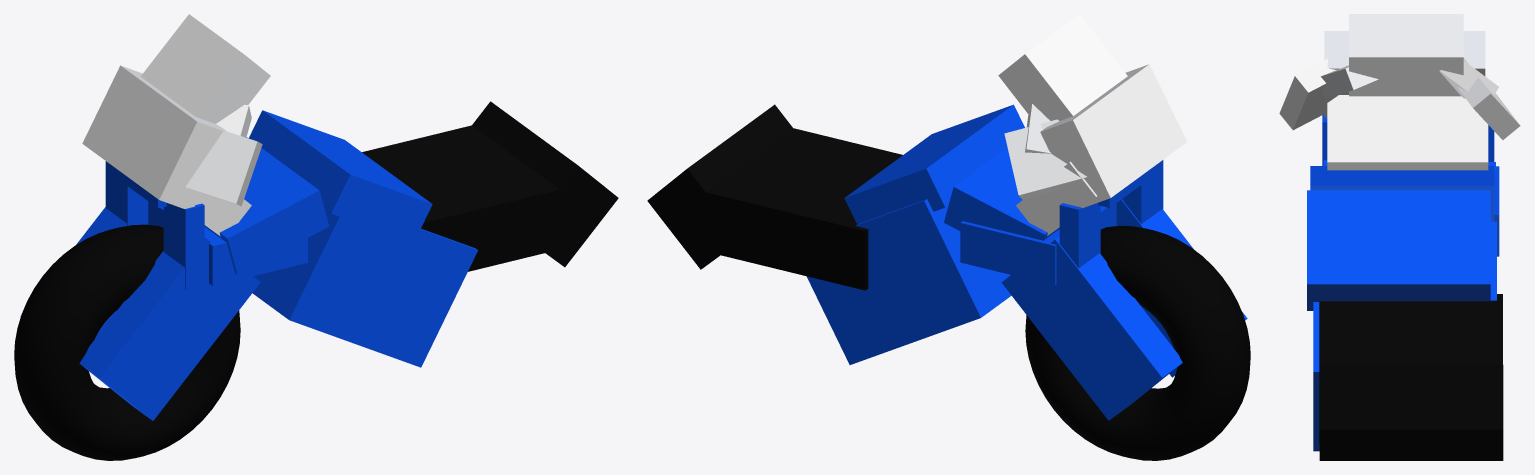
The picture shows the model from 3 angles, left to right: view 1: azimuth 30°, elevation 25°; view 2: azimuth 150°, elevation 25°; view 3: azimuth 270°, elevation 25°; orthographic projection. The views are drawn at different scales.
Parts seen in each view (by area): view 1: mesh_0, object 6, object 8, object 2, object 14, object 7, object 19, object 5, object 9, object 15, object 12, object 4 (+4 smaller); view 2: mesh_0, object 8, object 6, object 3, object 14, object 7, object 9, object 19, object 5, object 4, object 16, object 10 (+4 smaller); view 3: object 7, object 9, object 8, object 13, object 19, object 5, object 15, object 14, object 6, object 16, object 18, object 17 (+2 smaller).
Boxes of the visible parts, x1,y1,x2,y2 form: mesh_0: (14, 224, 240, 460); object 6: (252, 209, 477, 367); object 8: (362, 125, 570, 271); object 2: (79, 237, 260, 420); object 14: (82, 65, 226, 208); object 7: (248, 110, 432, 243); object 19: (141, 14, 270, 123); object 5: (204, 137, 329, 274); object 9: (472, 101, 618, 267); object 15: (185, 129, 262, 206); object 12: (163, 203, 204, 289); object 4: (148, 201, 307, 285); mesh_0: (1025, 225, 1250, 460); object 8: (706, 128, 902, 290); object 6: (806, 199, 1011, 364); object 3: (1001, 236, 1182, 420); object 14: (1040, 64, 1186, 207); object 7: (844, 104, 1024, 223); object 9: (647, 104, 792, 269); object 19: (998, 14, 1127, 120); object 5: (944, 147, 1059, 240); object 4: (960, 203, 1116, 285); object 16: (1004, 119, 1086, 199); object 10: (1059, 203, 1100, 268); object 7: (1307, 190, 1490, 310); object 9: (1319, 364, 1503, 460); object 8: (1319, 294, 1502, 443); object 13: (1327, 76, 1488, 170); object 19: (1349, 14, 1463, 96); object 5: (1310, 166, 1494, 221); object 15: (1279, 59, 1338, 130); object 14: (1324, 31, 1485, 117); object 6: (1313, 221, 1496, 451); object 16: (1457, 58, 1520, 139); object 18: (1321, 65, 1378, 98); object 17: (1439, 61, 1498, 98).
Size of the model in its own units: 2.92 by 2.01 by 1.05.
